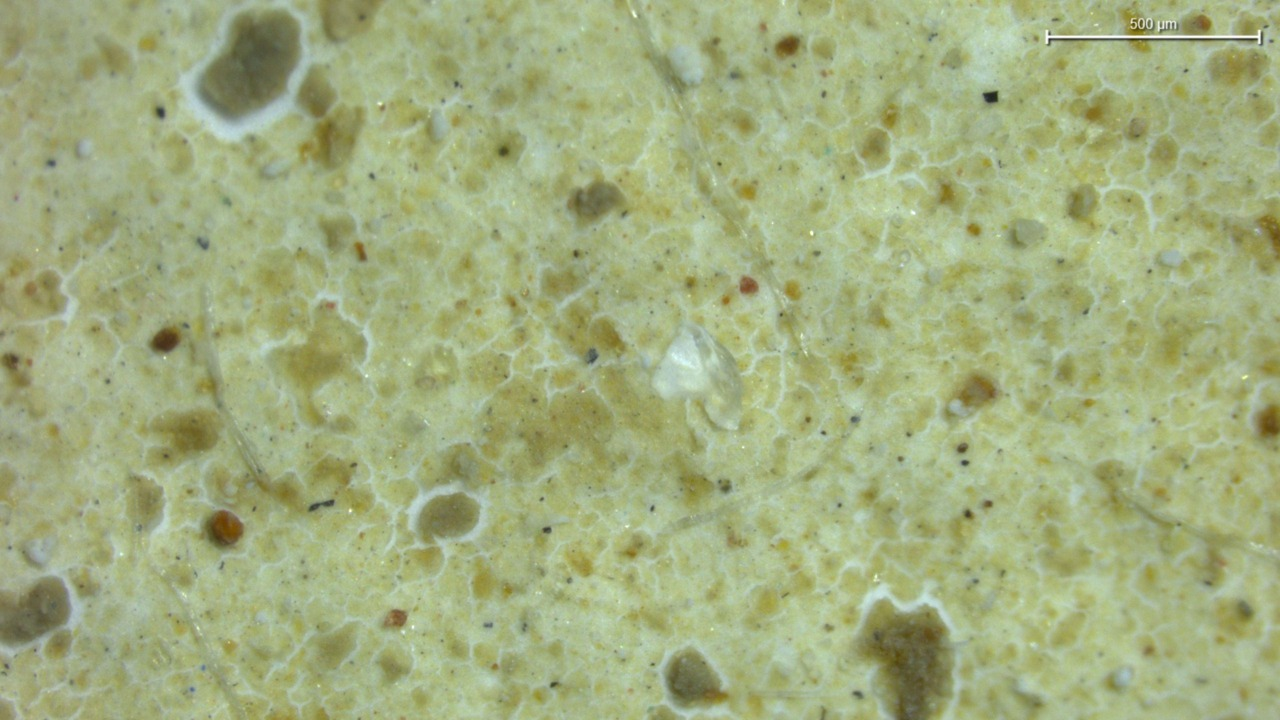microplastic_fragment: (652, 321, 742, 430), (667, 45, 704, 86)
